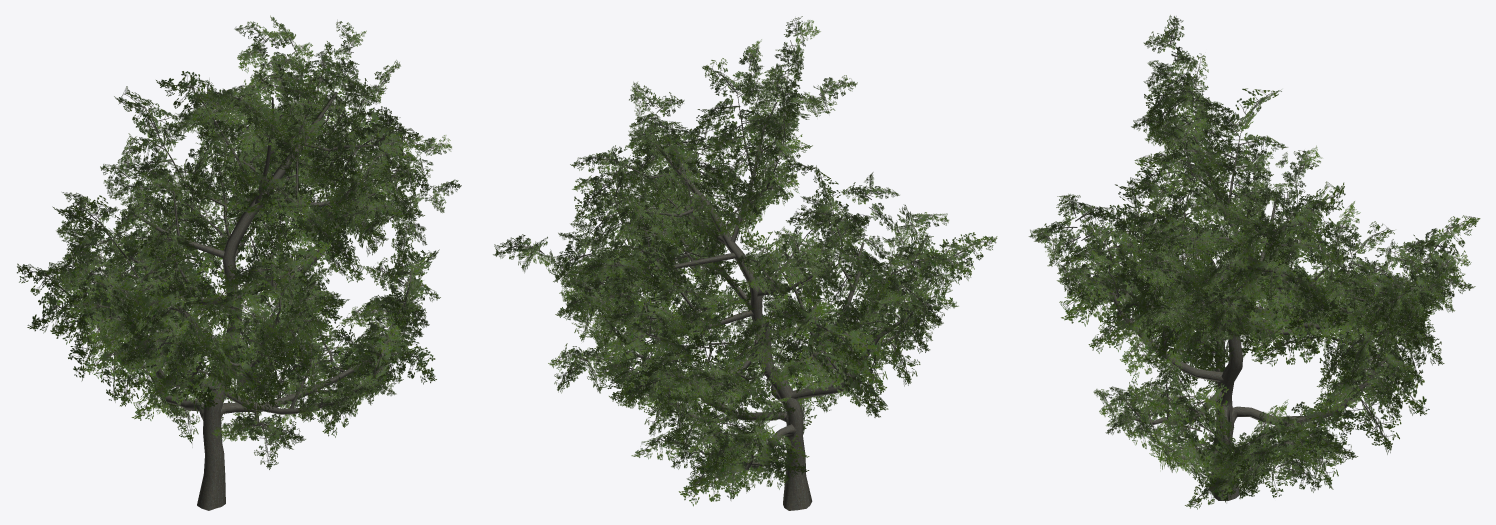
The model's file is oak1.glb.
3 renders of one model, left to right at view 1: azimuth 30°, elevation 25°; view 2: azimuth 150°, elevation 25°; view 3: azimuth 270°, elevation 25°, orthographic. The views are drawn at different scales.
Visible parts, largest first — view 1: leaves, bark; view 2: leaves, bark; view 3: leaves, bark.
Part boxes in pixels (x1=…): leaves: x1=16, y1=15, x2=461, y2=469; bark: x1=78, y1=82, x2=388, y2=510; leaves: x1=493, y1=16, x2=997, y2=506; bark: x1=609, y1=94, x2=915, y2=510; leaves: x1=1028, y1=15, x2=1480, y2=509; bark: x1=1081, y1=113, x2=1429, y2=500.
Bounding box in the file's own units: 23.33 × 26.48 × 22.41.
Materials: 2 (2 with a texture image).
